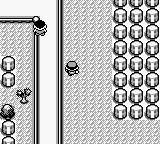main: (65, 61, 79, 75)
mo: (16, 89, 32, 104)
no-caminable: (112, 0, 159, 120), (0, 56, 16, 88), (0, 120, 16, 143), (0, 104, 15, 120)
npc: (33, 21, 47, 35)
